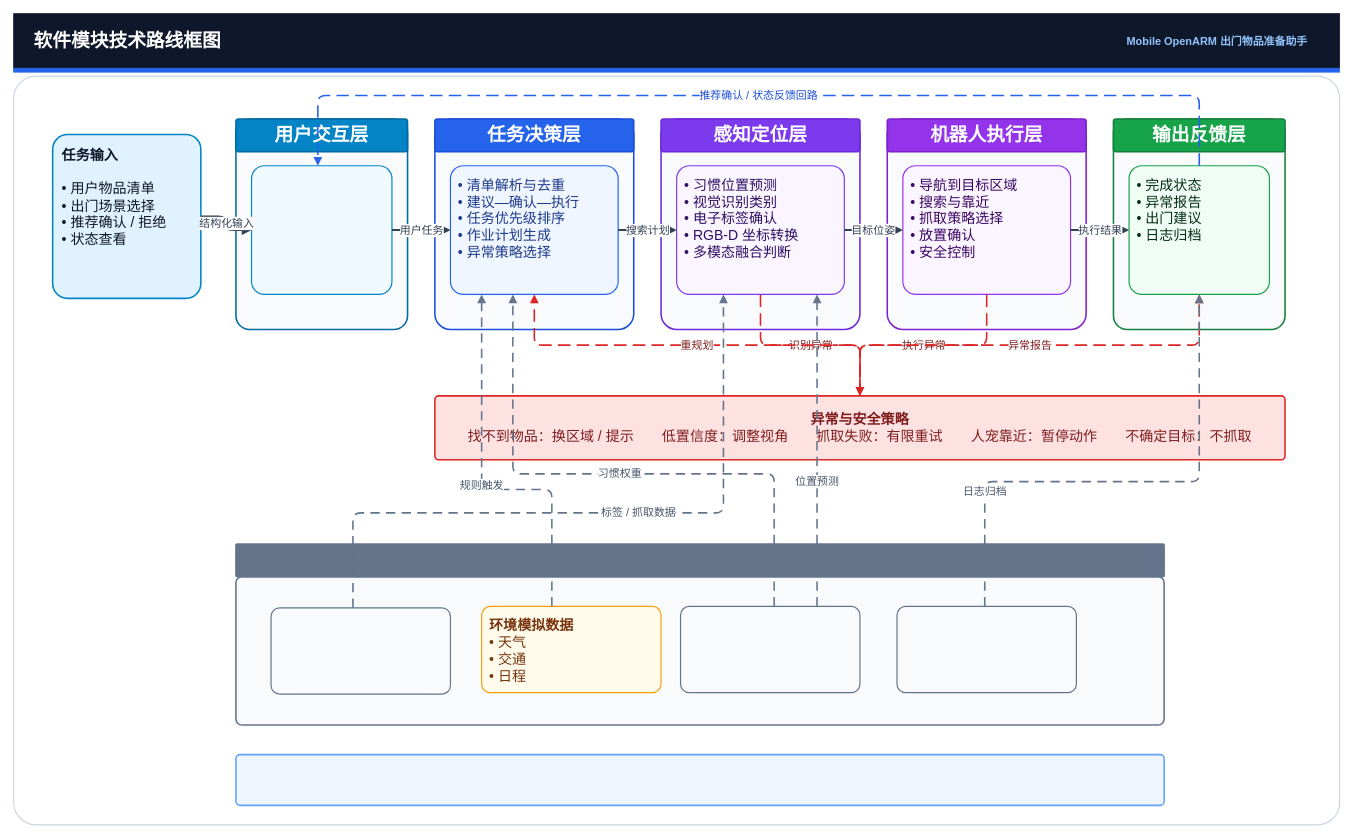
This 1354x839 diagram has some shape labels left out. Here are the shapes that lost their labels. From the top down, the centre of each, then its label:
point 321,230: • 清单输入 • 推荐确认 • 任务状态反馈 • 异常提示
point 700,560: 数据与环境支撑层
point 360,650: 物品数据库 • 物品属性 • 标签 ID • 抓取方式
point 770,649: 用户习惯数据 • 常带物品 • 常见位置 • 推荐权重
point 986,649: 任务日志 • 决策记录 • 执行状态 • 异常记录
point 700,779: 核心作业闭环：清单解析 → 环境推荐 → 用户确认 → 位置预测 → 导航搜索 → 多模态确认 → 抓取放置 → 状态反馈
